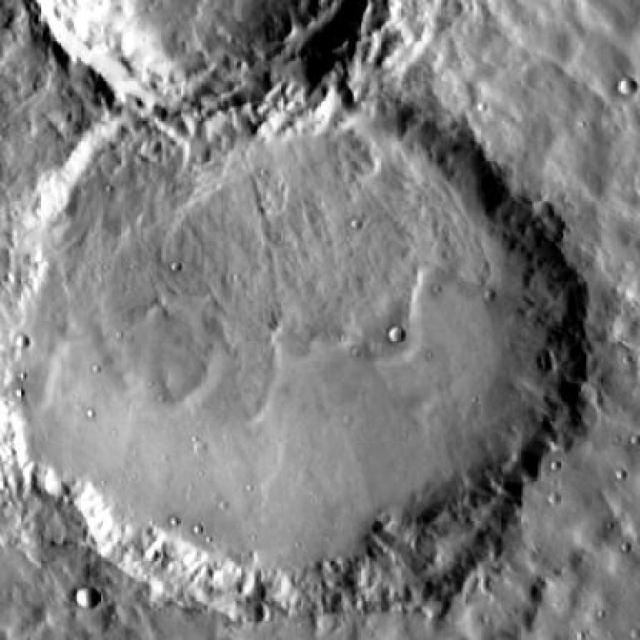crater: (0, 66, 569, 619), (76, 588, 98, 610), (618, 80, 638, 98)
